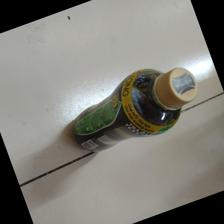Olong: (70, 62, 199, 154)
